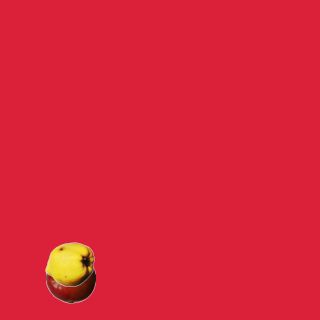Apple Braeburn: (45, 253, 95, 303)
Quince: (44, 239, 94, 289)
